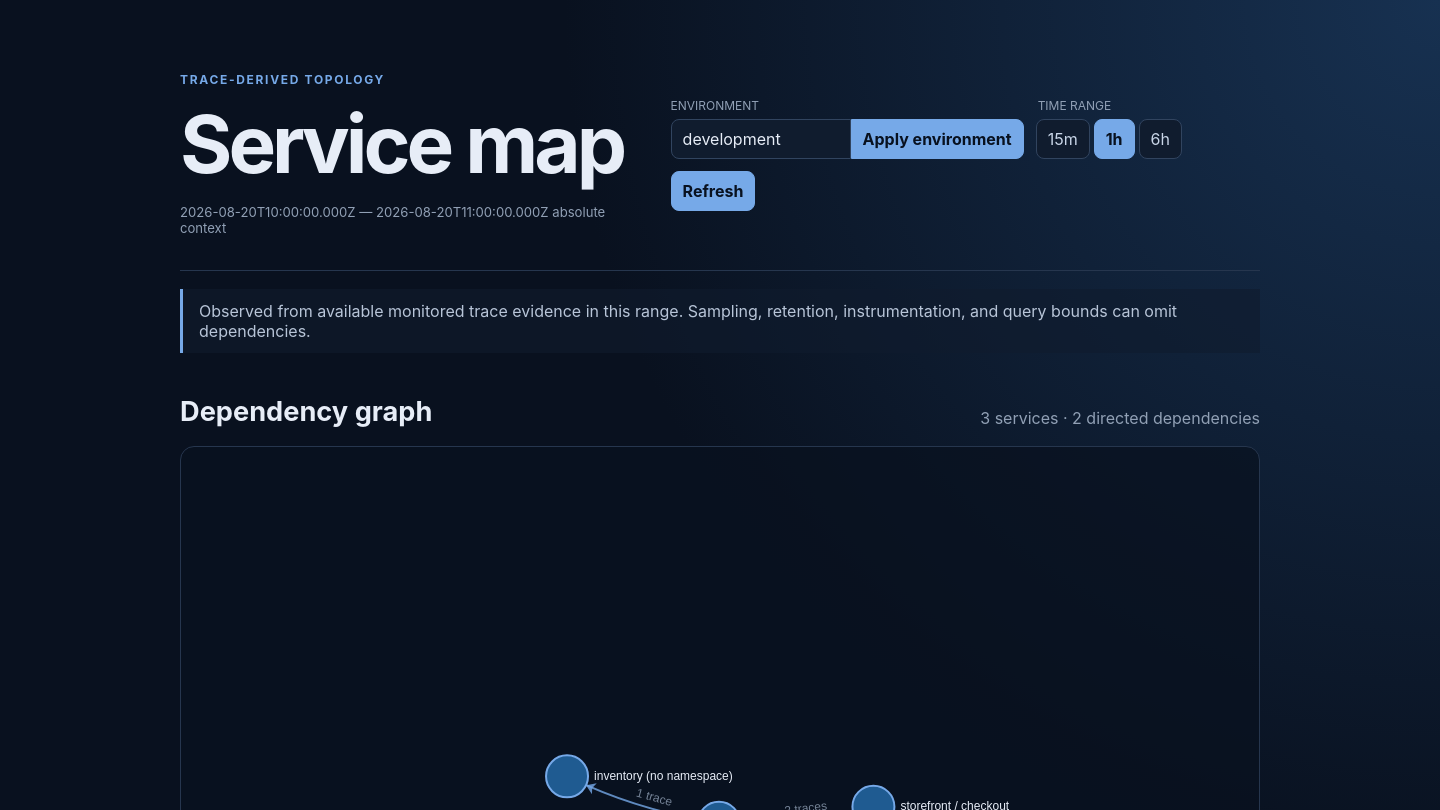
Service Map › suppresses the previous graph when a refresh fails
Click the button "Refresh": (713, 190) [671, 170, 755, 210]
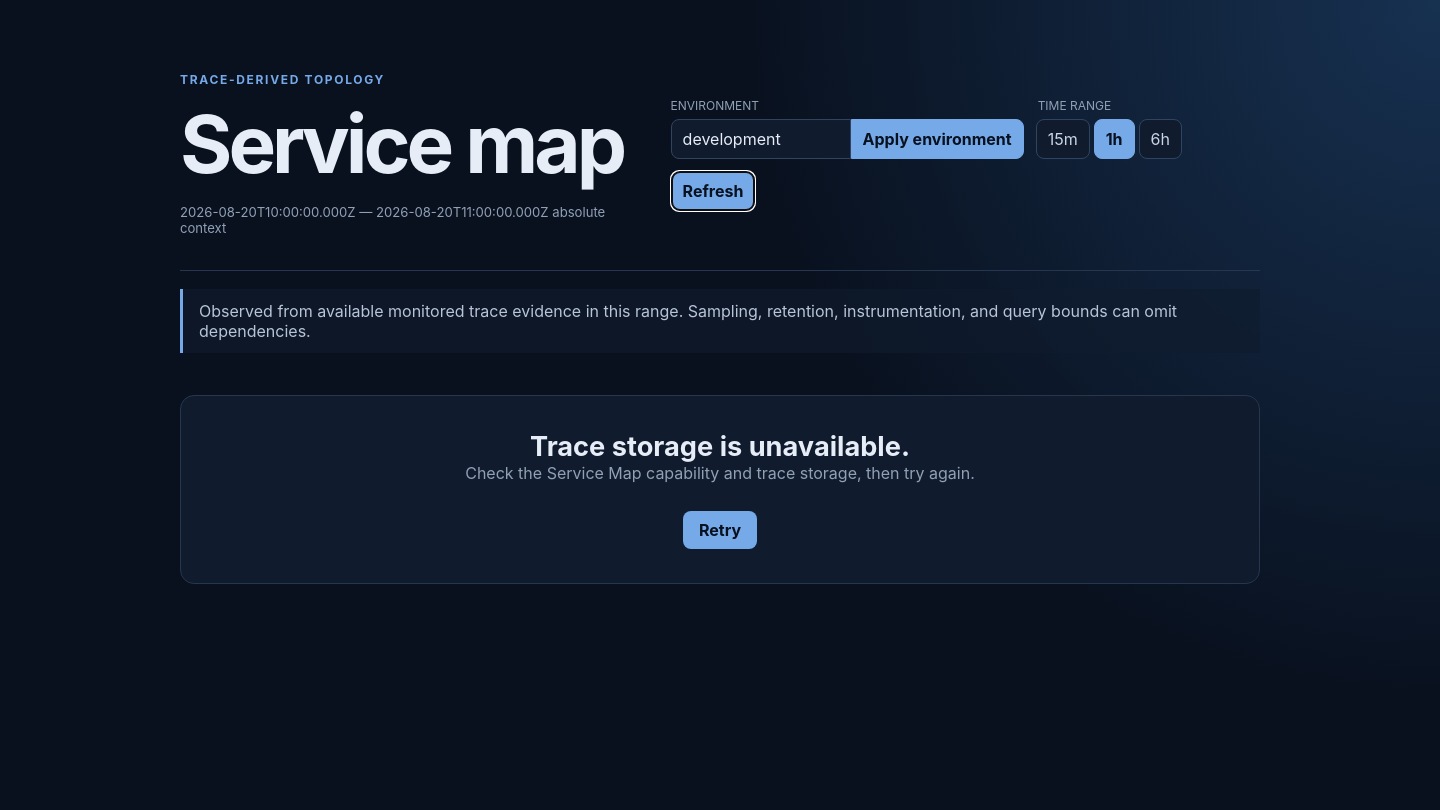
Check: the heading "Trace storage is unavailable." is shown, box [530, 430, 910, 463]
